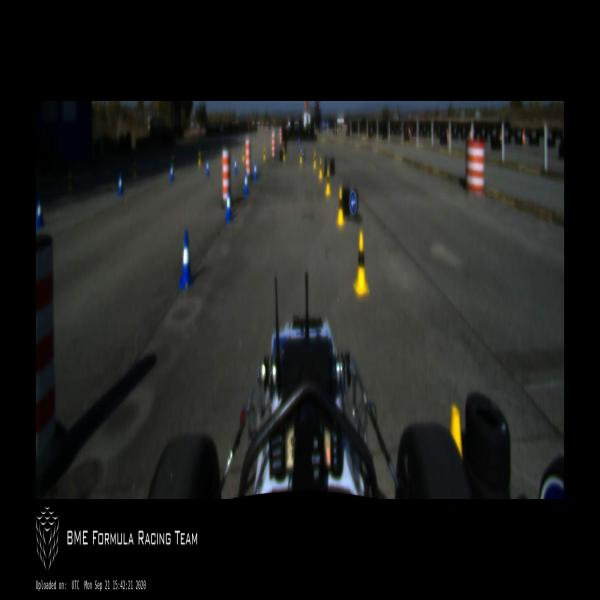blue_cone: (180, 229, 193, 290), (225, 189, 233, 221), (36, 195, 43, 227), (118, 173, 124, 196), (243, 171, 248, 195), (253, 160, 257, 180), (206, 158, 210, 177), (170, 164, 174, 182), (234, 156, 238, 174)
yellow_cone: (353, 231, 370, 297), (450, 404, 462, 456), (336, 186, 346, 226), (325, 169, 331, 196), (318, 158, 323, 180), (197, 151, 202, 166), (313, 152, 317, 169), (262, 146, 266, 161), (242, 148, 245, 162), (300, 147, 302, 165), (283, 147, 285, 162)
